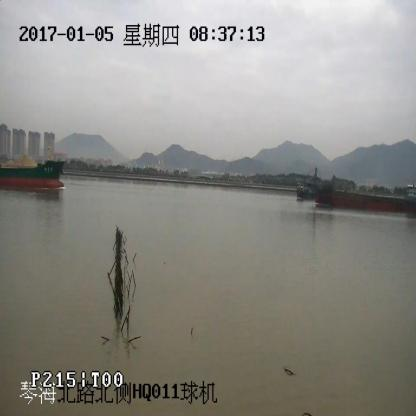Bulk Carrier: (298, 172, 416, 212), (0, 144, 66, 191)
